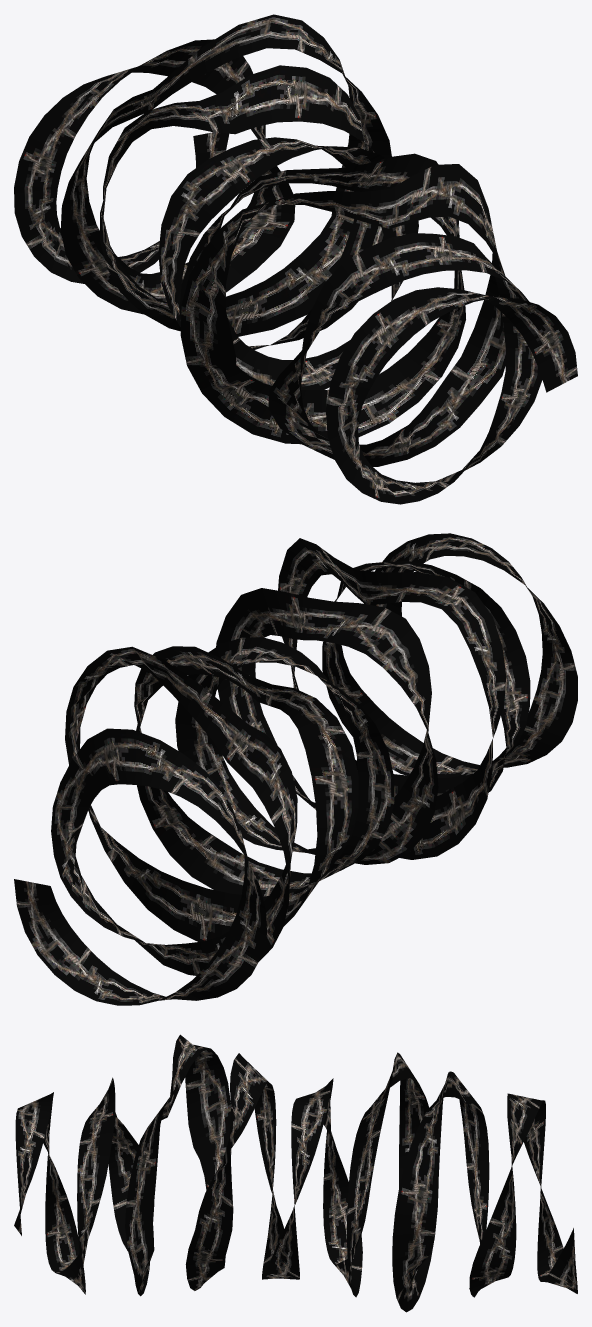
File: barbedwire_set_straight300.glb
3 renders of one model, top to bottom at view 1: azimuth 30°, elevation 25°; view 2: azimuth 150°, elevation 25°; view 3: azimuth 270°, elevation 25°, orthographic. The views are drawn at different scales.
Parts seen in each view (by area): view 1: barbedwire_set_straight300; view 2: barbedwire_set_straight300; view 3: barbedwire_set_straight300.
Boxes of the visible parts, <box> form: barbedwire_set_straight300: <box>14,14,577,504</box>; barbedwire_set_straight300: <box>14,533,577,1005</box>; barbedwire_set_straight300: <box>14,1034,577,1312</box>.
Size of the model in its own units: 3.1 by 2.8 by 6.08.
Materials: 1 (1 with a texture image).
